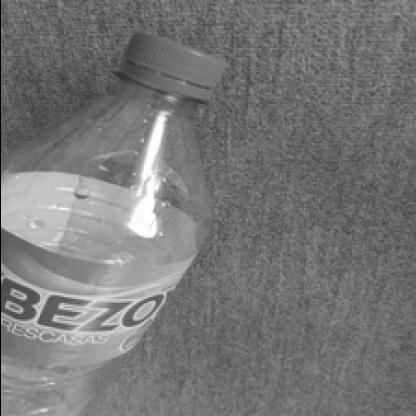plastic_bottles: (0, 31, 229, 416)
